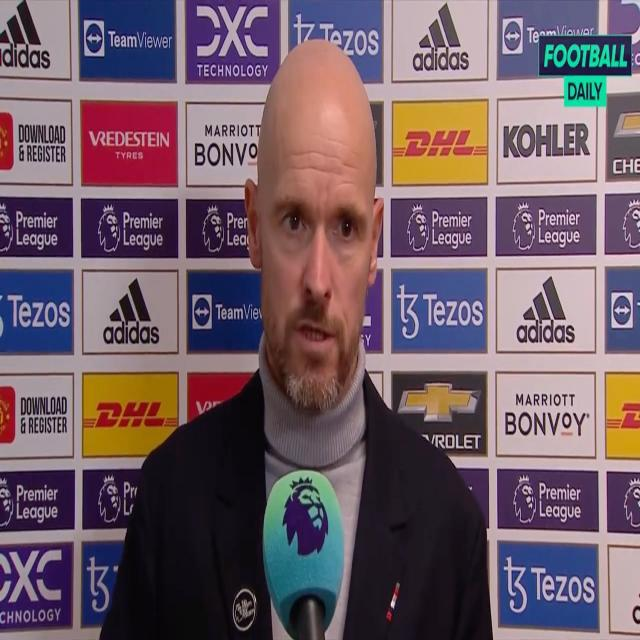Adidas: (515, 272, 578, 346), (411, 0, 469, 73), (102, 277, 160, 346), (0, 0, 54, 71)
Chevrolet: (399, 379, 482, 451)
Kohler: (504, 122, 590, 158)
TeamViewer: (85, 19, 174, 56), (504, 19, 595, 54)
